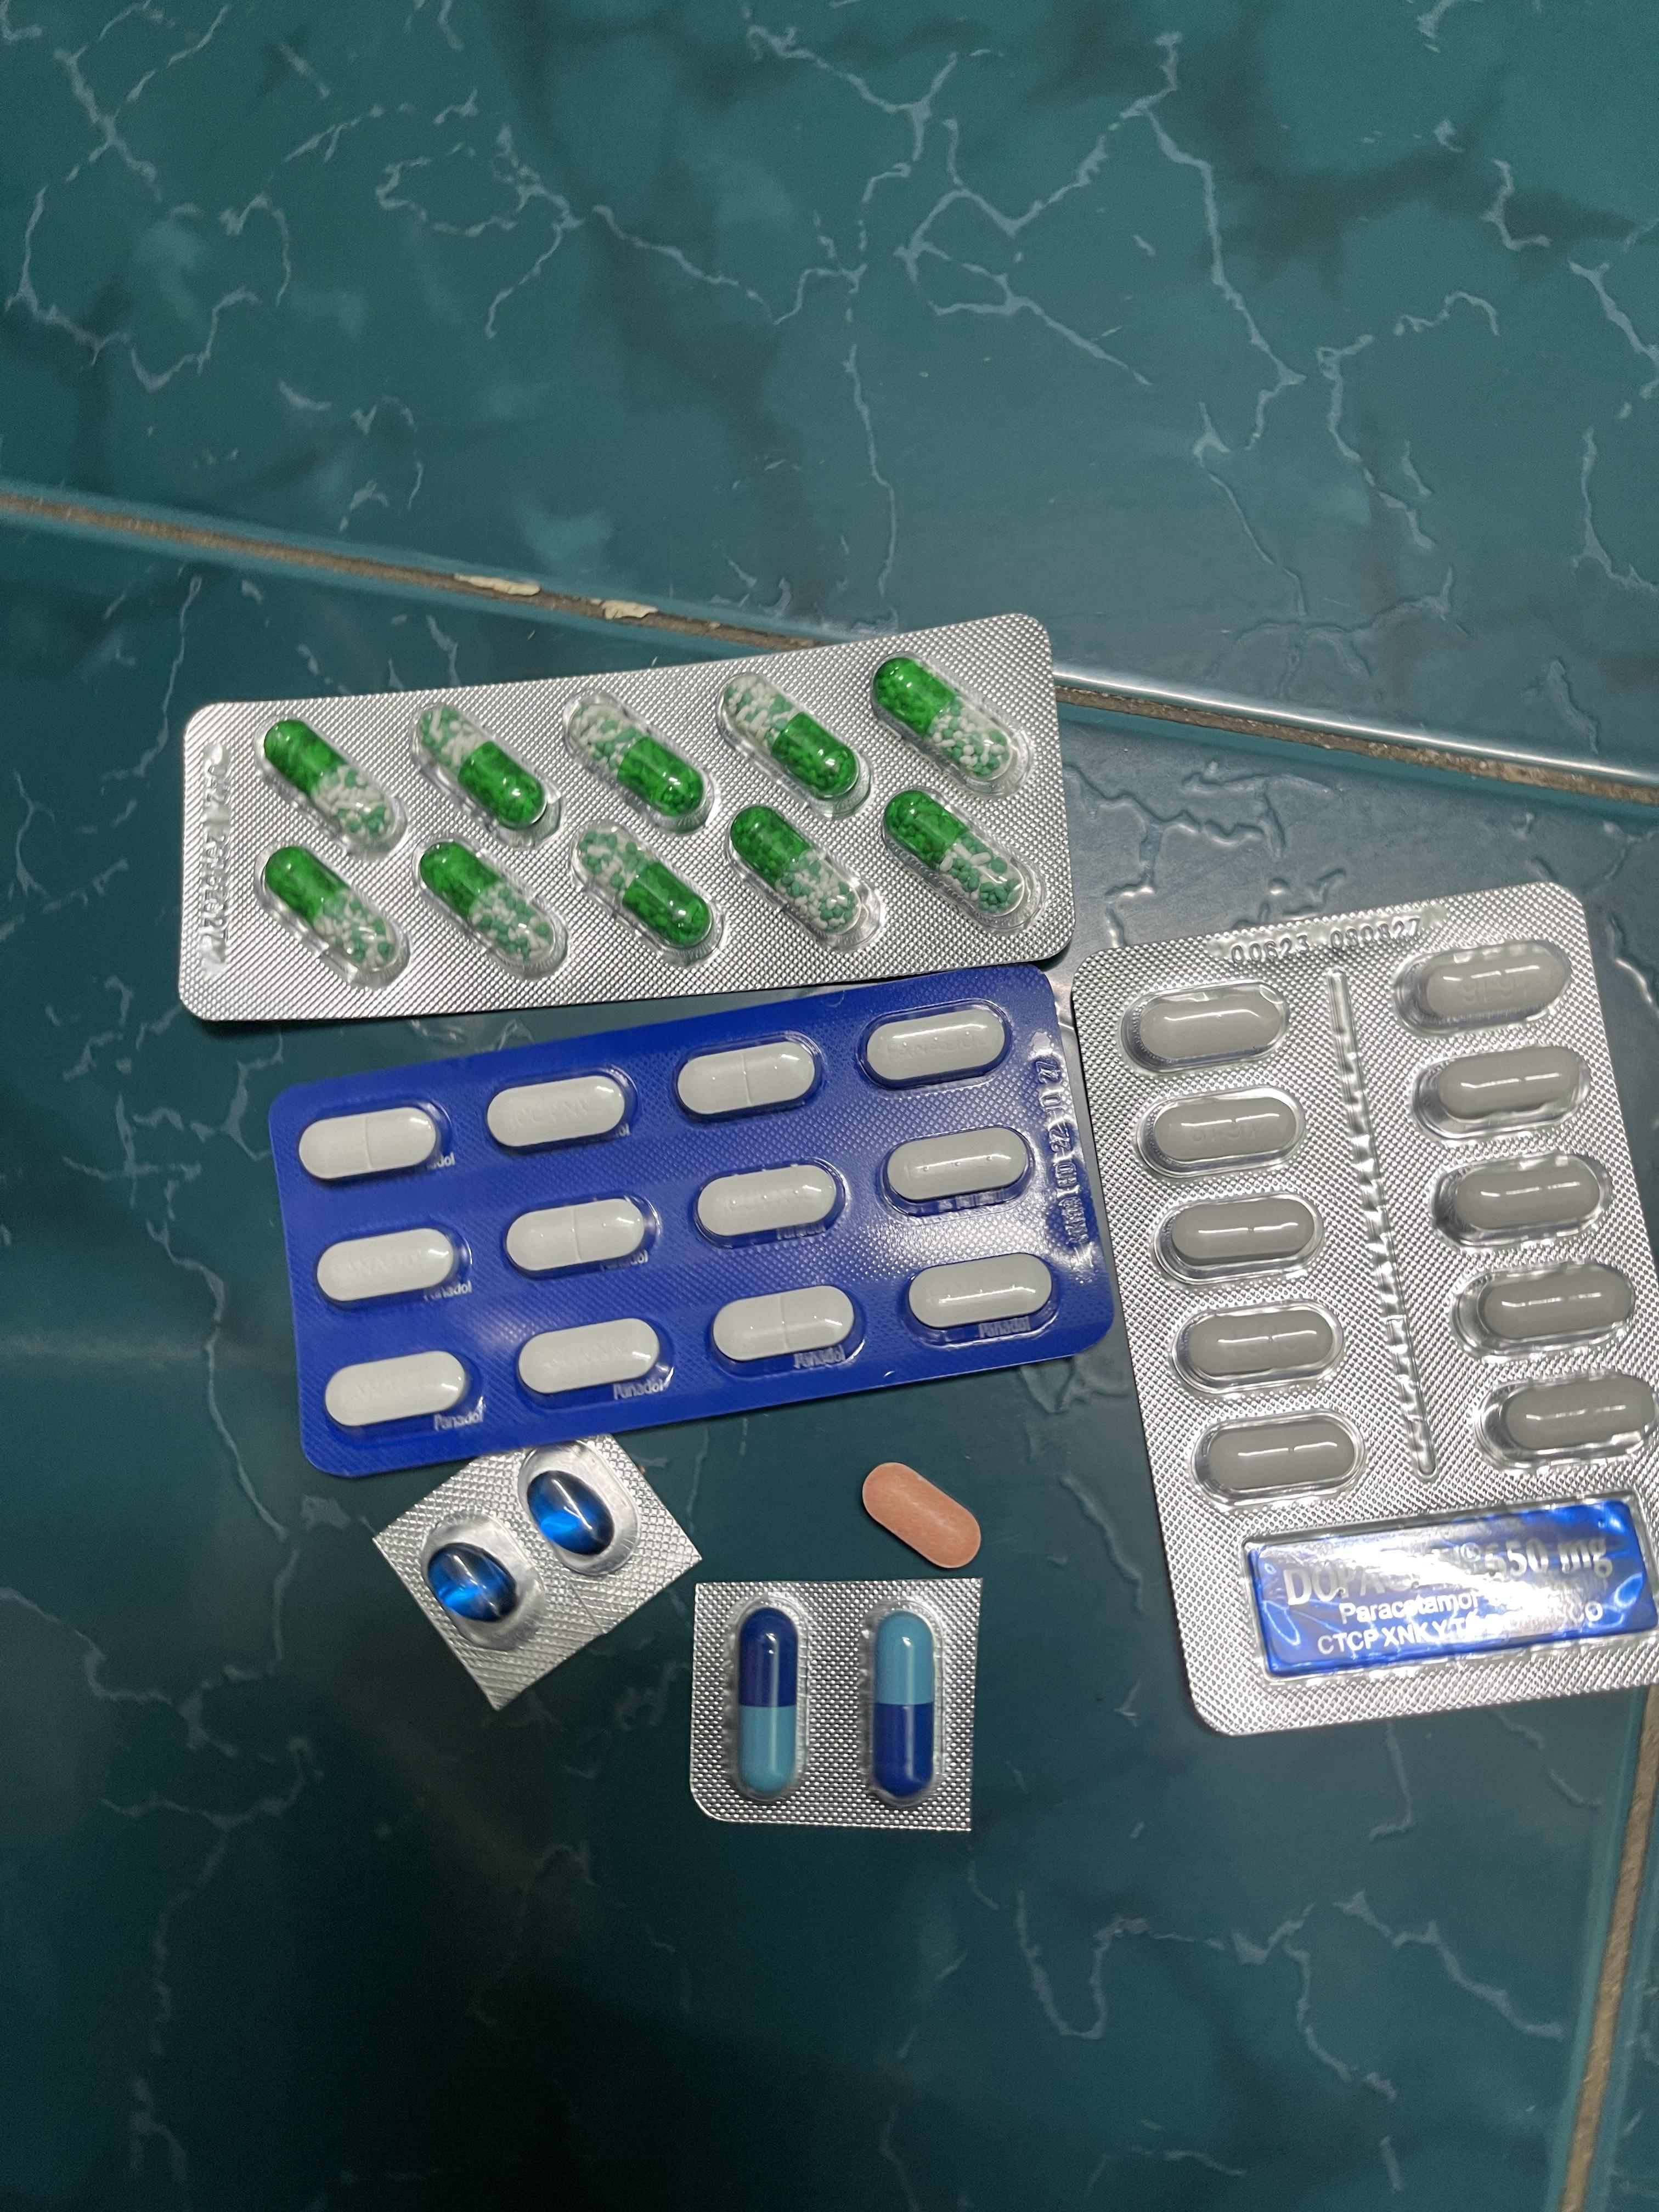Lincomyxin_500mg: (428, 1544, 518, 1624), (528, 1472, 612, 1554)
Loratadine_10mg: (861, 1462, 985, 1573)
Paracetamol_350mg: (691, 1163, 845, 1246), (905, 1255, 1057, 1338), (860, 1003, 1013, 1086), (315, 1225, 464, 1309), (515, 1318, 664, 1402), (676, 1035, 826, 1119), (883, 1128, 1036, 1209), (323, 1348, 471, 1431), (505, 1195, 653, 1278), (712, 1286, 860, 1368), (486, 1071, 633, 1152), (298, 1105, 443, 1185)
Paracetamol_500mg: (1452, 1259, 1641, 1357), (1432, 1150, 1617, 1250), (1413, 1043, 1596, 1142), (1481, 1370, 1659, 1470), (1393, 938, 1572, 1032), (1196, 1413, 1364, 1508), (1175, 1302, 1339, 1394), (1156, 1192, 1321, 1282), (1140, 1088, 1303, 1178), (1121, 980, 1283, 1069)
Paracetamol_650mg: (413, 702, 562, 848), (885, 787, 1036, 927), (418, 838, 567, 977), (567, 820, 716, 958), (262, 715, 409, 856), (876, 656, 1020, 788), (565, 694, 710, 823), (263, 844, 399, 982), (729, 804, 862, 937), (725, 678, 863, 803)
pill: (737, 1606, 798, 1795), (873, 1615, 934, 1803)
